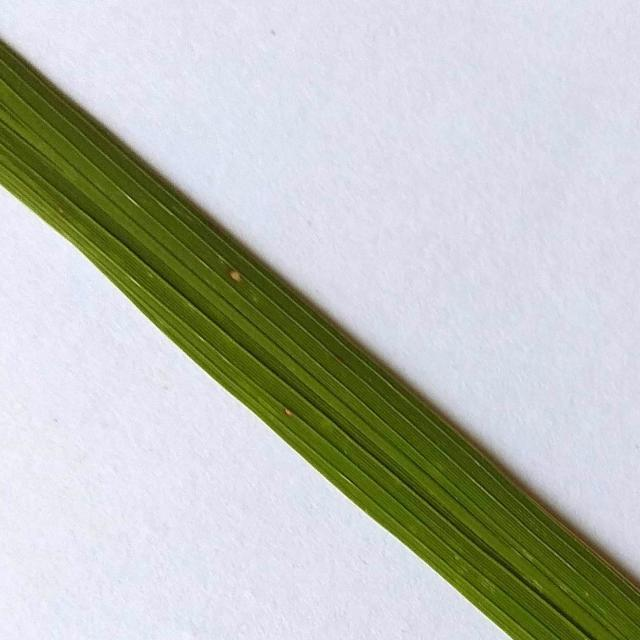Blast: (224, 266, 248, 288), (280, 403, 307, 421)
